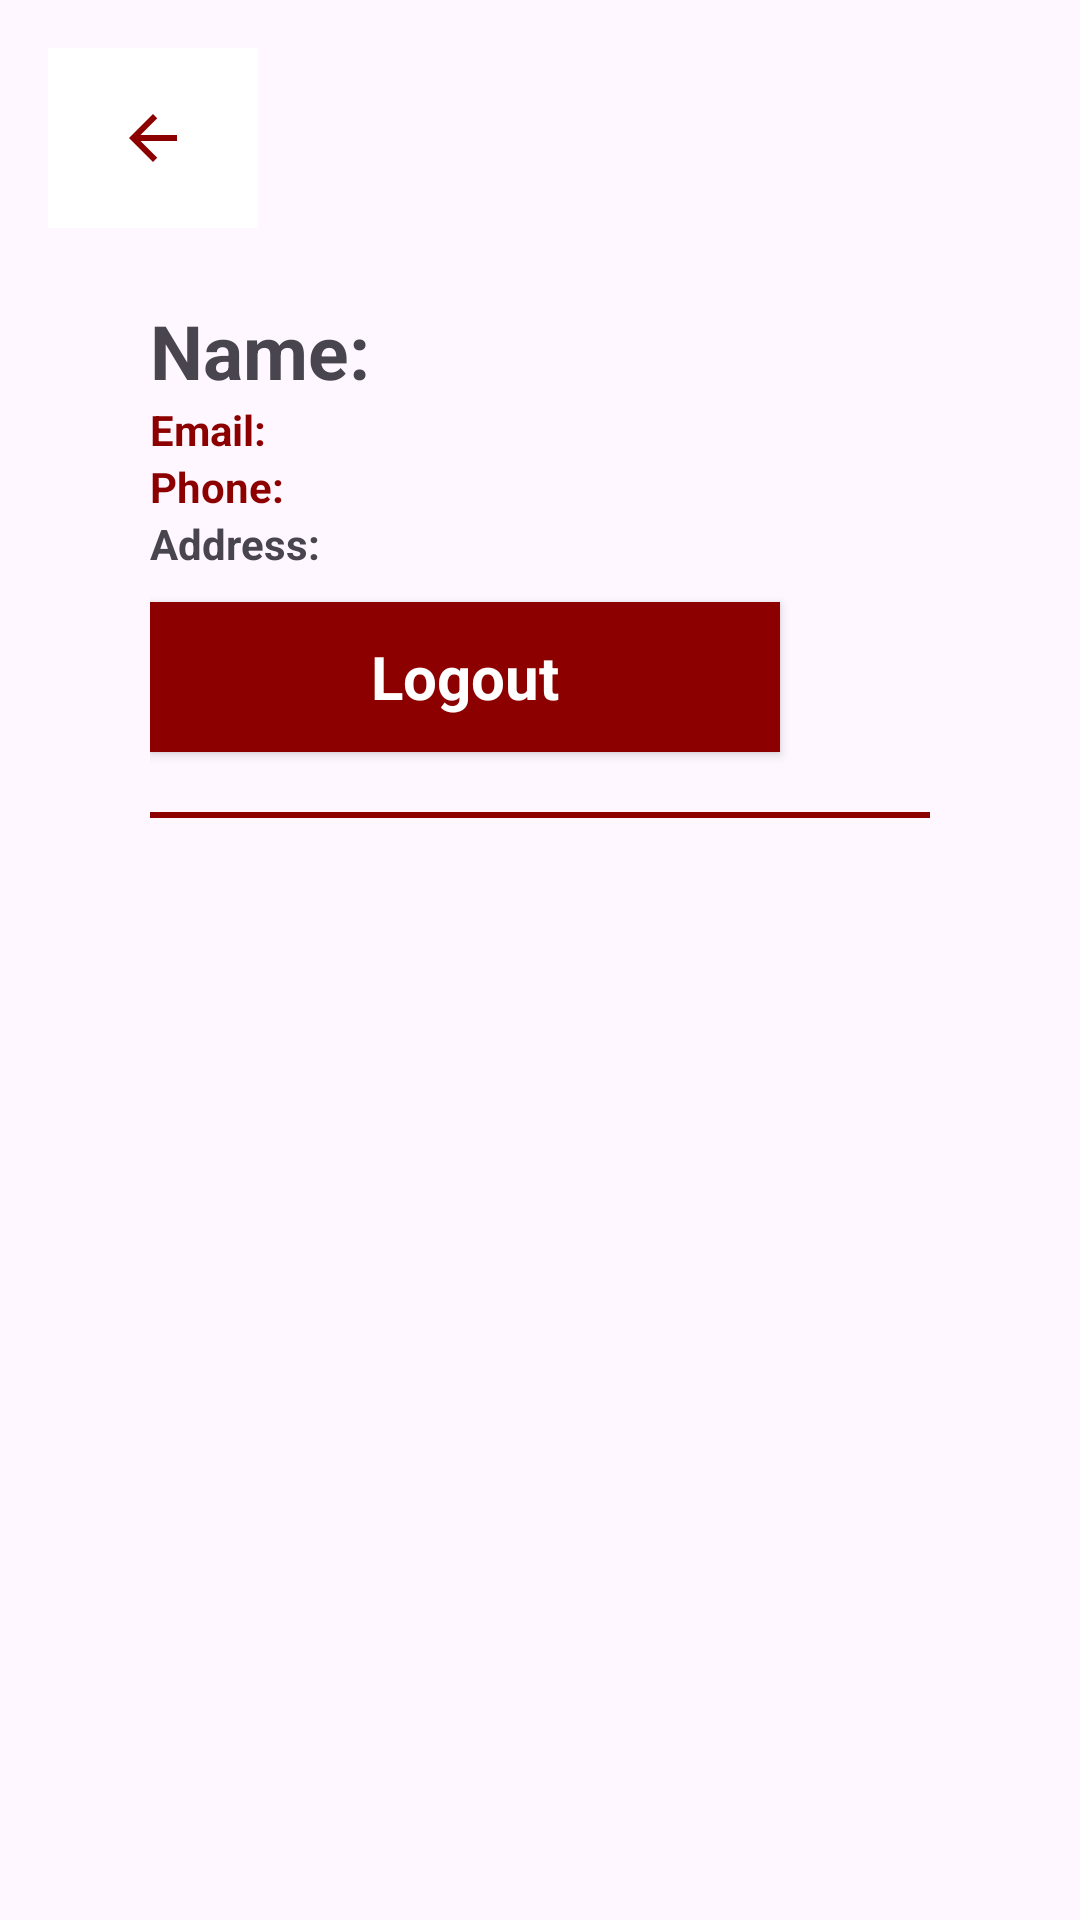

Named icons in this screenshot (1080px x 1920px) and their bounding boxes, bbox=(x1, y1, x2, y2):
arrow back: bbox=(129, 114, 177, 162)
